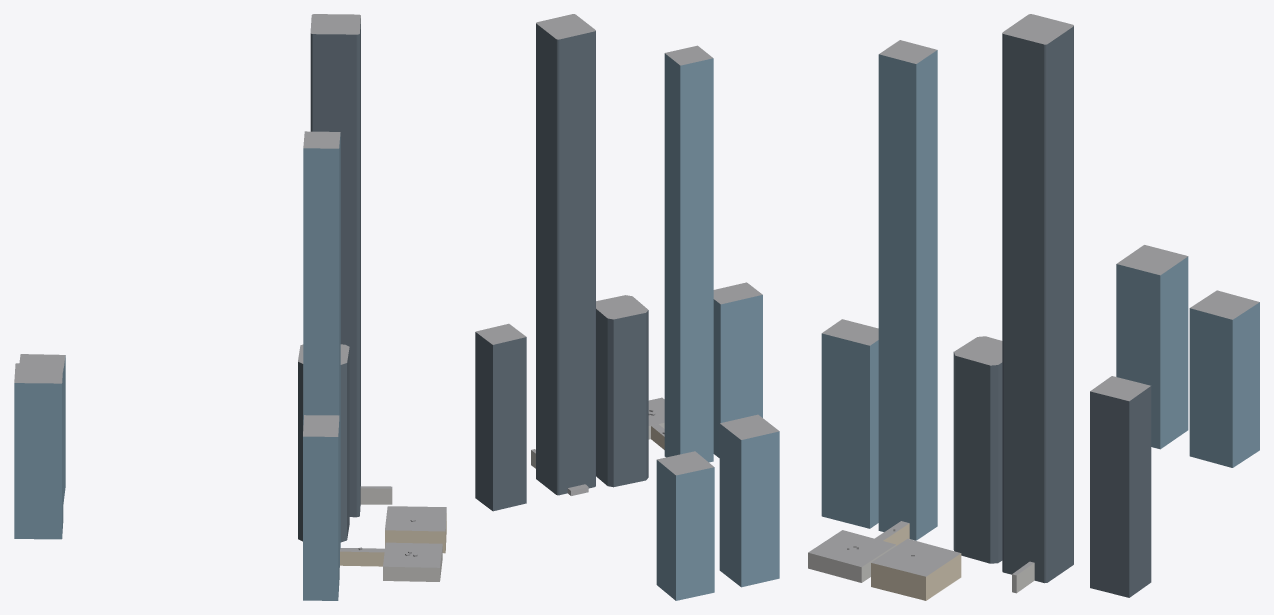
The model's file is building_-1_-6.glb.
3 views of the same model, side by side, from view 1: azimuth 30°, elevation 25°; view 2: azimuth 150°, elevation 25°; view 3: azimuth 270°, elevation 25° (orthographic). The views are drawn at different scales.
Visible parts, largest first — view 1: glass_blue, glass_dark, roof, sandstone, concrete_light; view 2: glass_dark, glass_blue, roof; view 3: glass_dark, glass_blue, roof, sandstone, concrete_light.
Boxes of the visible parts, x1,y1,x2,y2 form: glass_blue: (14,133,340,600); glass_dark: (298,18,360,542); roof: (14,14,446,567); sandstone: (340,513,446,566); concrete_light: (360,488,442,581); glass_dark: (475,23,648,511); glass_blue: (656,53,779,600); roof: (475,14,779,490); glass_dark: (953,26,1151,597); glass_blue: (821,50,1259,540); roof: (808,14,1259,576); sandstone: (871,523,961,600); concrete_light: (808,545,1034,593).
Size of the model in its own units: 258 by 356 by 271.
